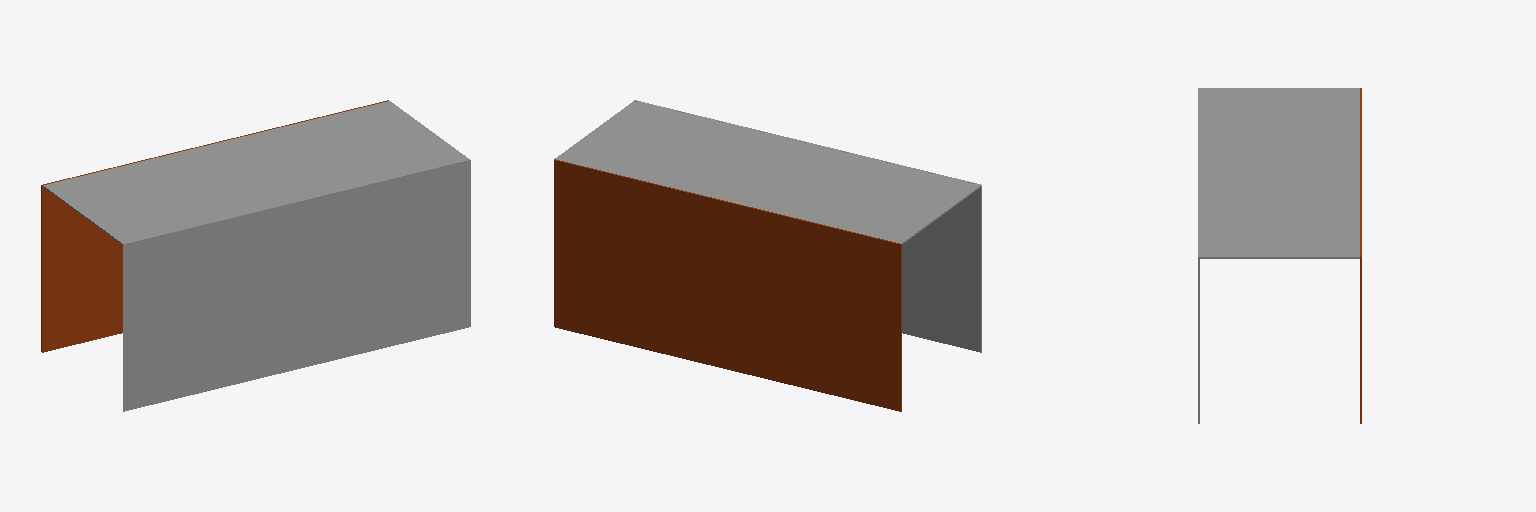
Rendered from valentin_library.obj.
3 views of the same model, side by side, from view 1: azimuth 30°, elevation 25°; view 2: azimuth 150°, elevation 25°; view 3: azimuth 270°, elevation 25° (orthographic).
Parts seen in each view (by area): view 1: Plane.001, Plane, Plane.002_Plane.003; view 2: Plane.002_Plane.003, Plane, Plane.001; view 3: Plane, Plane.002_Plane.003, Plane.001.
Boxes of the visible parts, x1=… form: Plane.001: x1=123, y1=159, x2=470, y2=411; Plane: x1=43, y1=101, x2=468, y2=244; Plane.002_Plane.003: x1=41, y1=100, x2=388, y2=352; Plane.002_Plane.003: x1=554, y1=159, x2=901, y2=411; Plane: x1=555, y1=101, x2=980, y2=243; Plane.001: x1=634, y1=100, x2=981, y2=352; Plane: x1=1200, y1=88, x2=1359, y2=258; Plane.002_Plane.003: x1=1360, y1=88, x2=1361, y2=423; Plane.001: x1=1198, y1=88, x2=1199, y2=423.
Size of the model in its own units: 37.82 by 17.4 by 15.38.